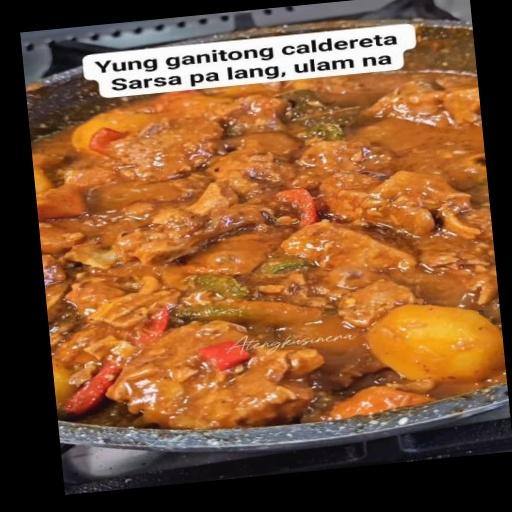pork caldereta: (17, 70, 510, 432)
